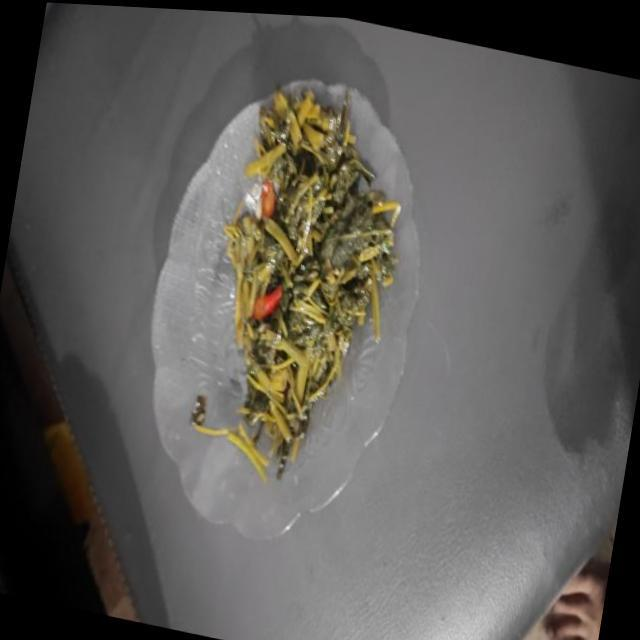tumis_kangkung: (226, 90, 400, 468)
